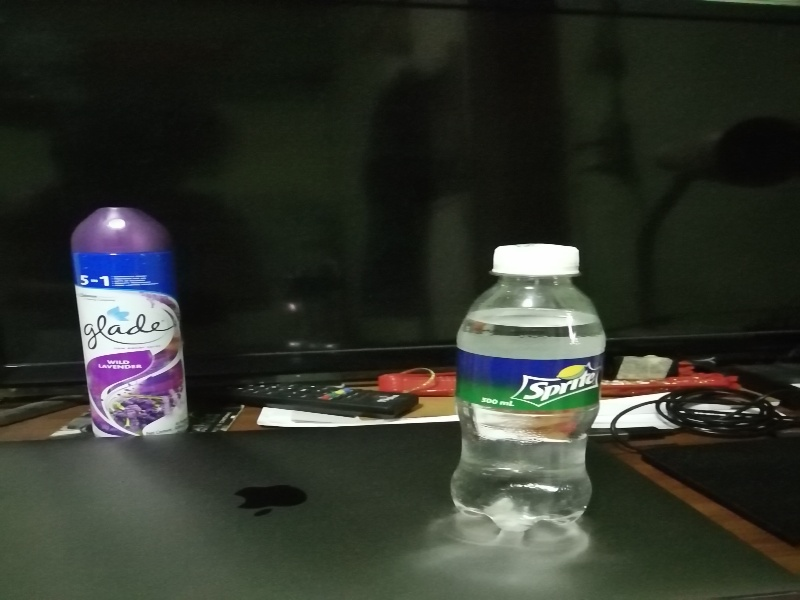PET #1: (443, 228, 607, 537)
